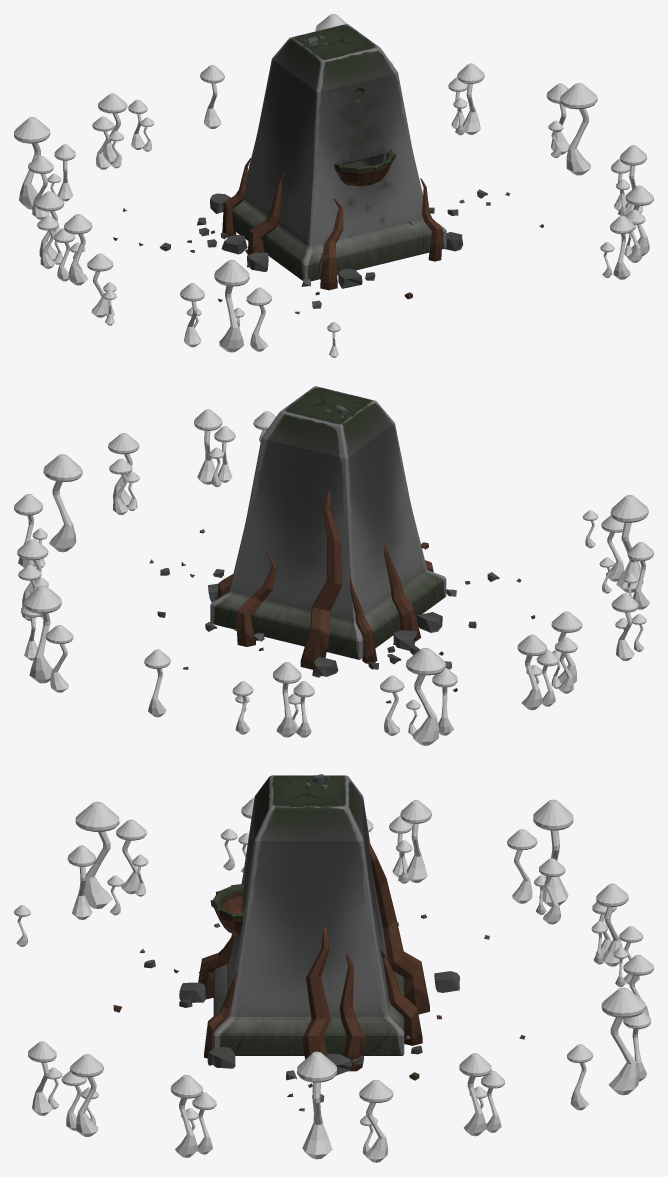
The model's file is statue_purple.fbx.
The picture shows the model from 3 angles, top to bottom: view 1: azimuth 30°, elevation 25°; view 2: azimuth 150°, elevation 25°; view 3: azimuth 270°, elevation 25°; orthographic projection. The views are drawn at different scales.
Parts seen in each view (by area): view 1: statue purple; view 2: statue purple; view 3: statue purple.
Part boxes in pixels (x1,y1,x2,y2): statue purple: (14,14,653,357); statue purple: (14,386,653,745); statue purple: (14,774,653,1162).
Bounding box in the file's own units: 343 × 385 × 143.
